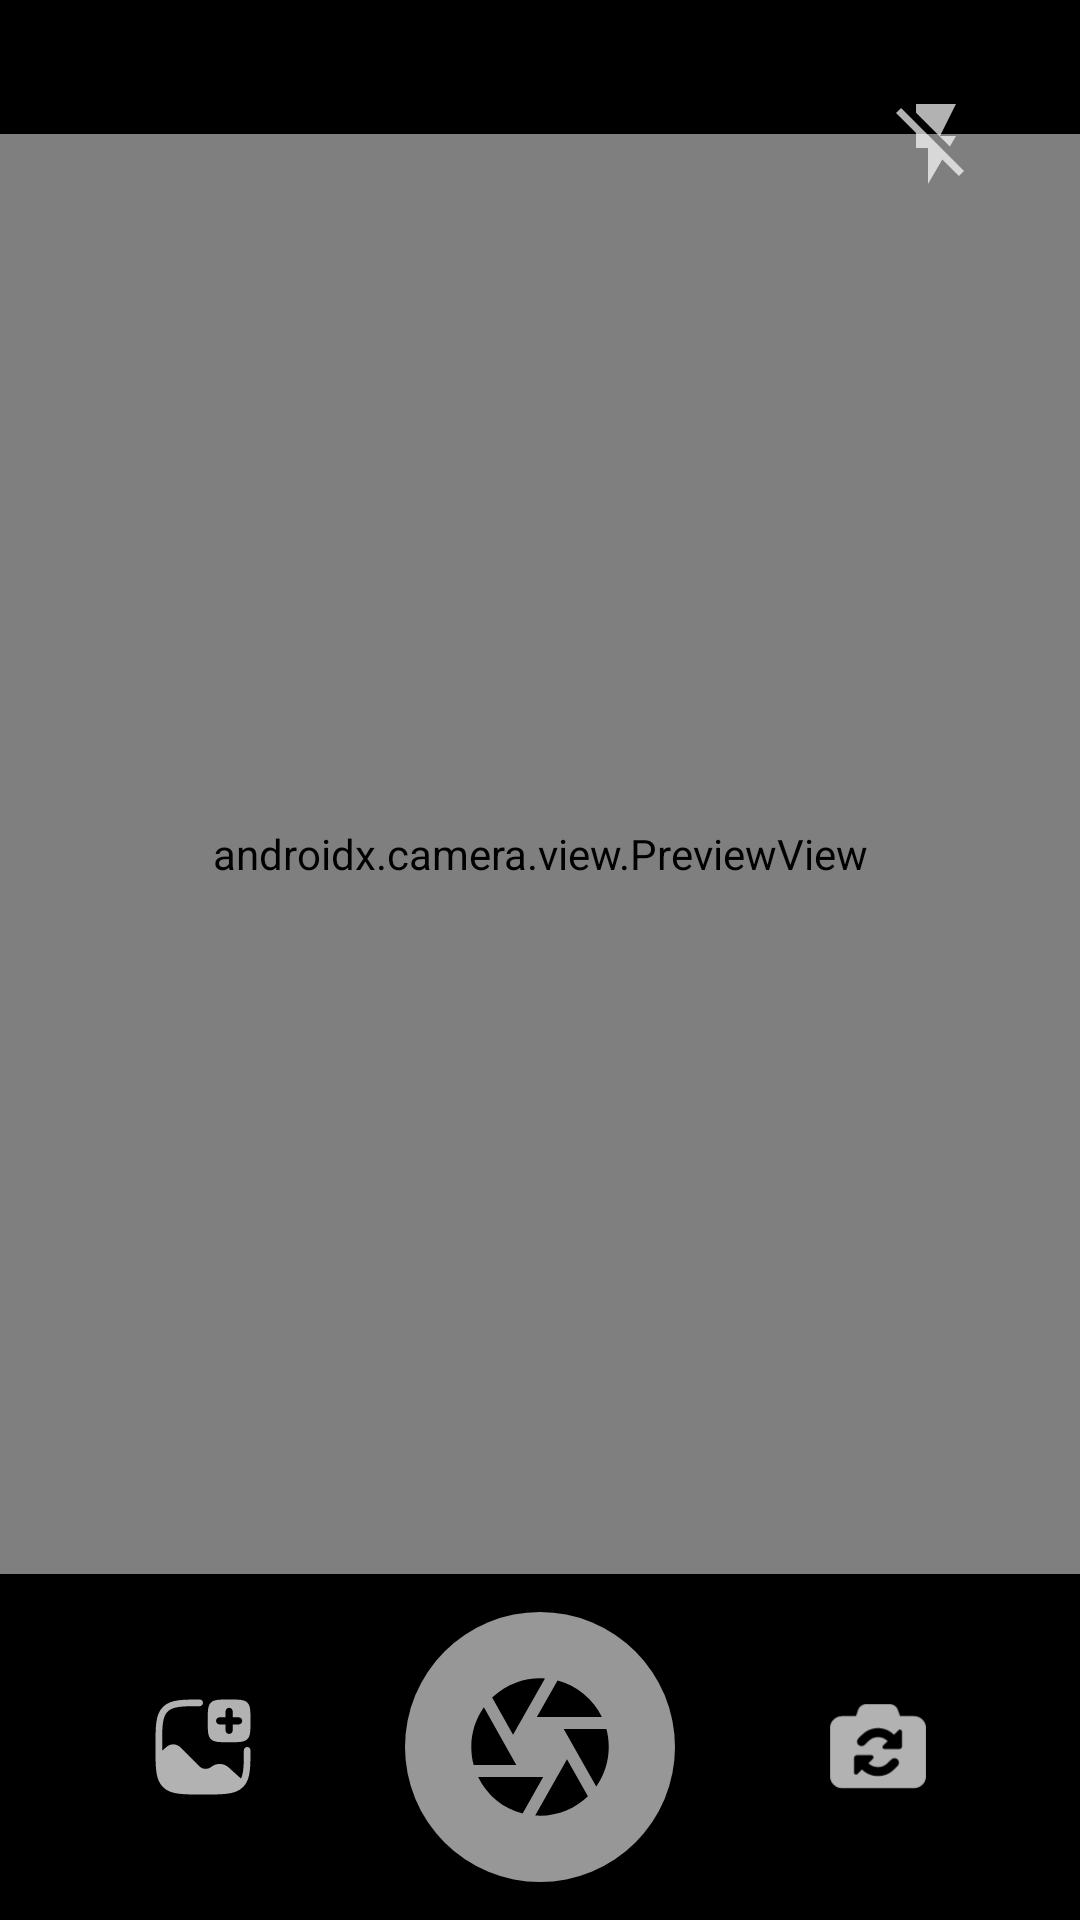

Screen size 1080*1920. Icon name, then its center in pixels as point (x, y):
add thumbnail: point (203, 1747)
capture: point (540, 1747)
flash off: point (936, 144)
switch camera: point (878, 1746)
